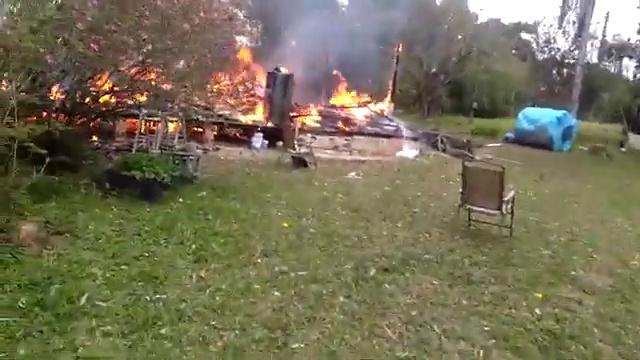fire: (337, 81, 372, 116), (235, 53, 262, 85), (93, 77, 115, 105), (293, 105, 318, 129), (248, 100, 269, 125)
